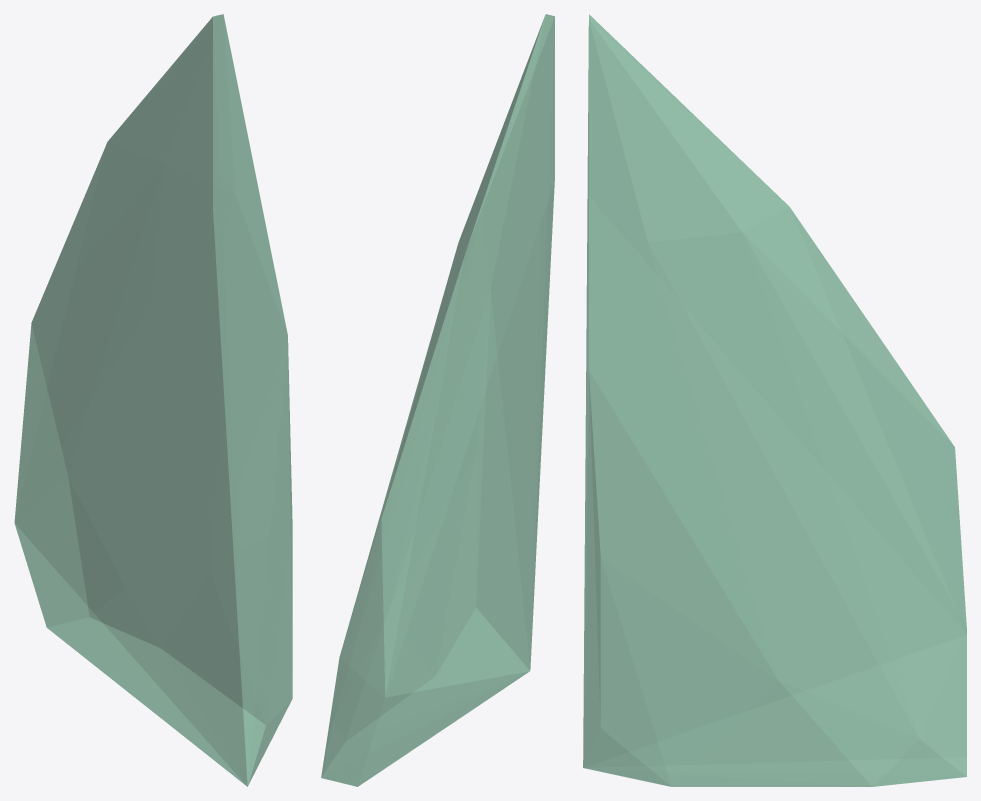
3 renders of one model, left to right at view 1: azimuth 30°, elevation 25°; view 2: azimuth 150°, elevation 25°; view 3: azimuth 270°, elevation 25°, orthographic. The views are drawn at different scales.
Parts seen in each view (by area): view 1: Shape_IndexedFaceSet.093_Shape_IndexedFaceSet.9901; view 2: Shape_IndexedFaceSet.093_Shape_IndexedFaceSet.9901; view 3: Shape_IndexedFaceSet.093_Shape_IndexedFaceSet.9901.
Part boxes in pixels (x1=…): Shape_IndexedFaceSet.093_Shape_IndexedFaceSet.9901: x1=14, y1=14, x2=292, y2=786; Shape_IndexedFaceSet.093_Shape_IndexedFaceSet.9901: x1=321, y1=14, x2=554, y2=786; Shape_IndexedFaceSet.093_Shape_IndexedFaceSet.9901: x1=583, y1=14, x2=966, y2=786.
Size of the model in its own units: 0.0511 by 0.3921 by 0.1845.
